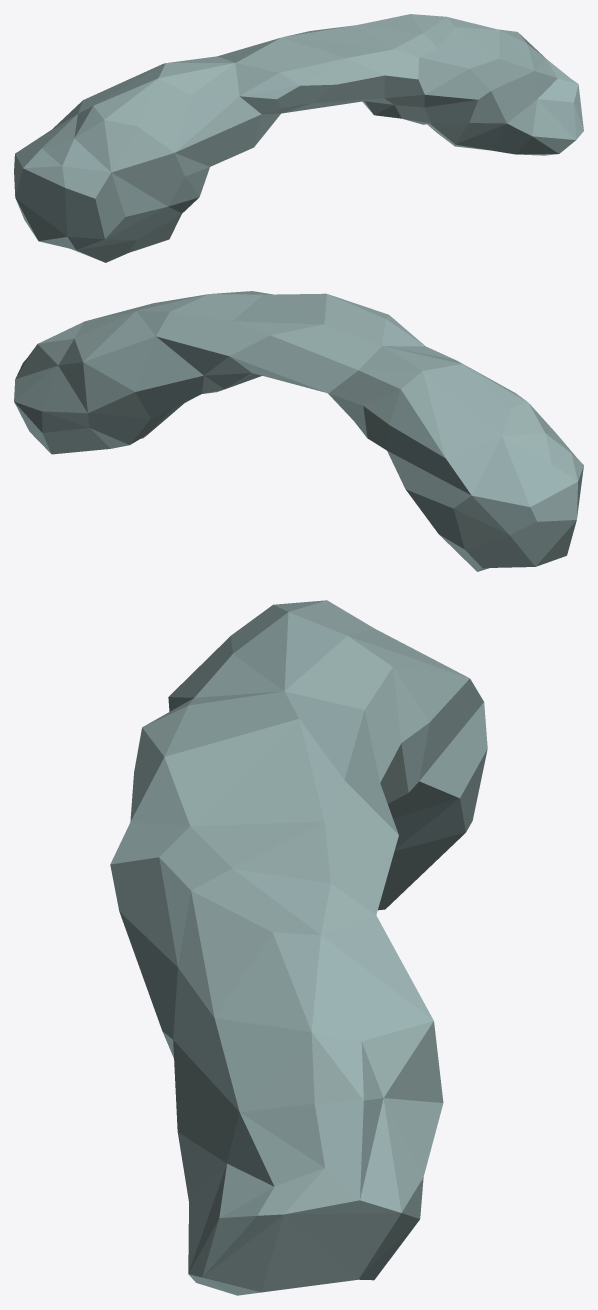
File: Rock_Bridge_low.fbx
3 renders of one model, top to bottom at view 1: azimuth 30°, elevation 25°; view 2: azimuth 150°, elevation 25°; view 3: azimuth 270°, elevation 25°, orthographic. The views are drawn at different scales.
Parts seen in each view (by area): view 1: Bridge_low1; view 2: Bridge_low1; view 3: Bridge_low1.
Part boxes in pixels (<box>): Bridge_low1: <box>14,14,583,262</box>; Bridge_low1: <box>14,291,583,571</box>; Bridge_low1: <box>110,600,487,1295</box>.
Size of the model in its own units: 15621 by 4930 by 4751.
